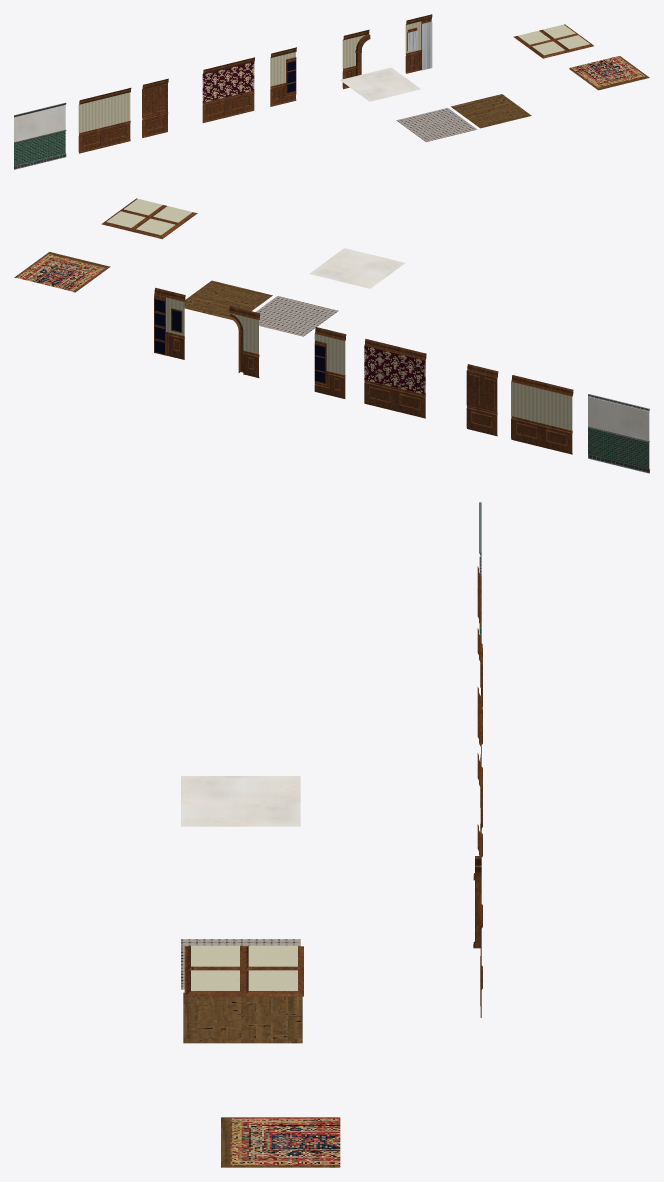
File: NewTiles.glb
3 views of the same model, one above another, from view 1: azimuth 30°, elevation 25°; view 2: azimuth 150°, elevation 25°; view 3: azimuth 270°, elevation 25° (orthographic). The views are drawn at different scales.
Parts seen in each view (by area): view 1: Wall.Batthroom, Plane.004, Plane, Plane.002, Ceiling, Ceiling.Plaster, Plane.001, Floor.Tiles, Wall.FrontDoor, Wall.Window, Wall.Wood, Plane.003; view 2: Plane, Plane.004, Wall.Batthroom, Ceiling, Ceiling.Plaster, Plane.002, Wall.Wood, Wall.Window, Wall.FrontDoor, Floor.Tiles, Plane.001, Plane.003; view 3: Ceiling, Plane.002, Ceiling.Plaster, Plane.001, Floor.Tiles.
Boxes of the visible parts, <box> form: Wall.Batthroom: <box>14,102,66,169</box>; Plane.004: <box>202,57,254,122</box>; Plane: <box>78,88,131,153</box>; Plane.002: <box>569,56,649,90</box>; Ceiling: <box>513,24,593,58</box>; Ceiling.Plaster: <box>340,67,420,101</box>; Plane.001: <box>451,94,531,128</box>; Floor.Tiles: <box>396,108,476,141</box>; Wall.FrontDoor: <box>405,14,432,73</box>; Wall.Window: <box>270,47,296,106</box>; Wall.Wood: <box>142,78,168,137</box>; Plane.003: <box>342,29,370,89</box>; Plane: <box>511,375,573,454</box>; Plane.004: <box>364,339,426,418</box>; Wall.Batthroom: <box>588,394,649,473</box>; Ceiling: <box>101,198,197,239</box>; Ceiling.Plaster: <box>309,248,404,288</box>; Plane.002: <box>14,252,110,292</box>; Wall.Wood: <box>466,364,498,436</box>; Wall.Window: <box>314,327,346,398</box>; Wall.FrontDoor: <box>154,287,185,359</box>; Floor.Tiles: <box>255,296,338,336</box>; Plane.001: <box>184,280,272,319</box>; Plane.003: <box>229,306,260,377</box>; Ceiling: <box>184,945,303,996</box>; Plane.002: <box>221,1117,340,1167</box>; Ceiling.Plaster: <box>181,776,300,826</box>; Plane.001: <box>183,992,302,1043</box>; Floor.Tiles: <box>181,939,300,989</box>.
Bounding box in the file's own units: 33.13 × 3.08 × 7.58.
12 materials, 11 textured.
